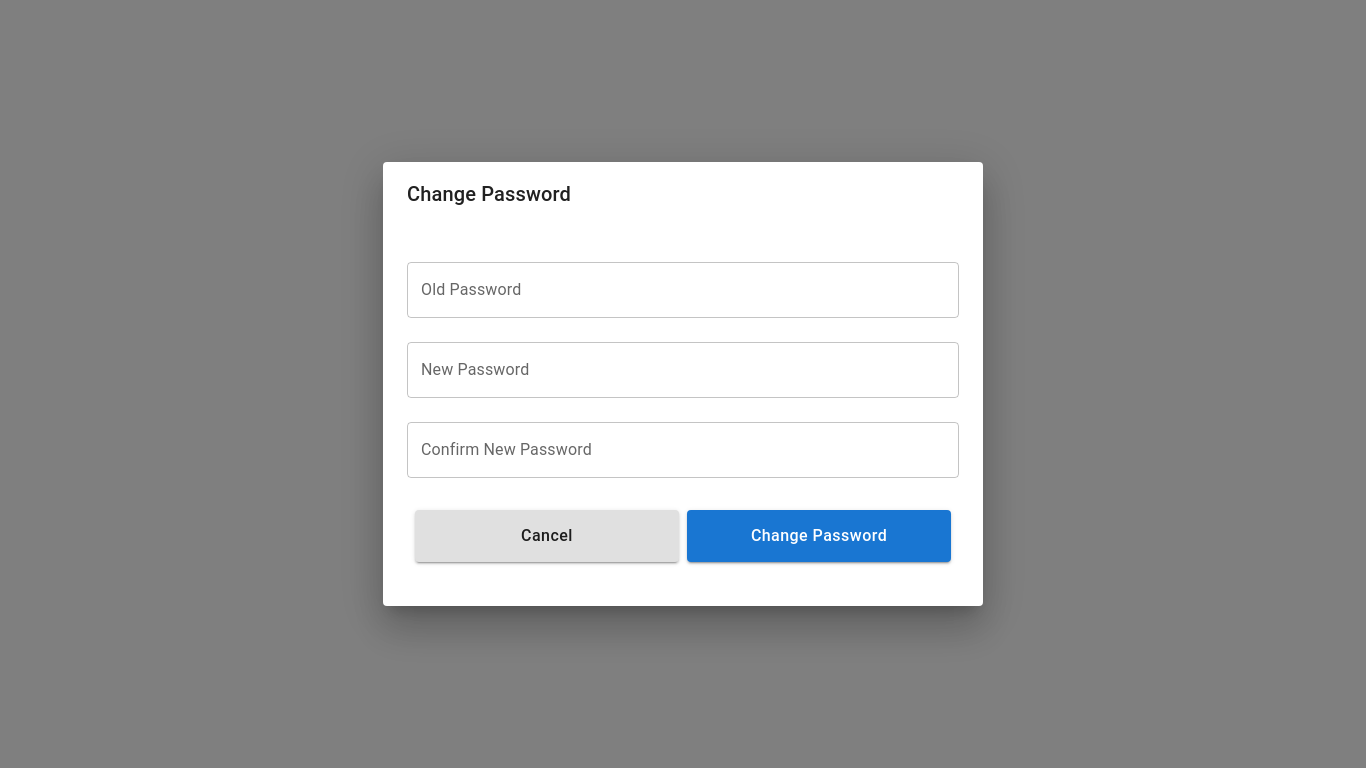
Test case: ChangePasswordModal › shows generic error message when API error has no specific message
// Submit the form
What coordinates should you click on to do the following:
click the button "Change Password"
I would click on:
 (819, 536)
Its box is [687,510,951,562].
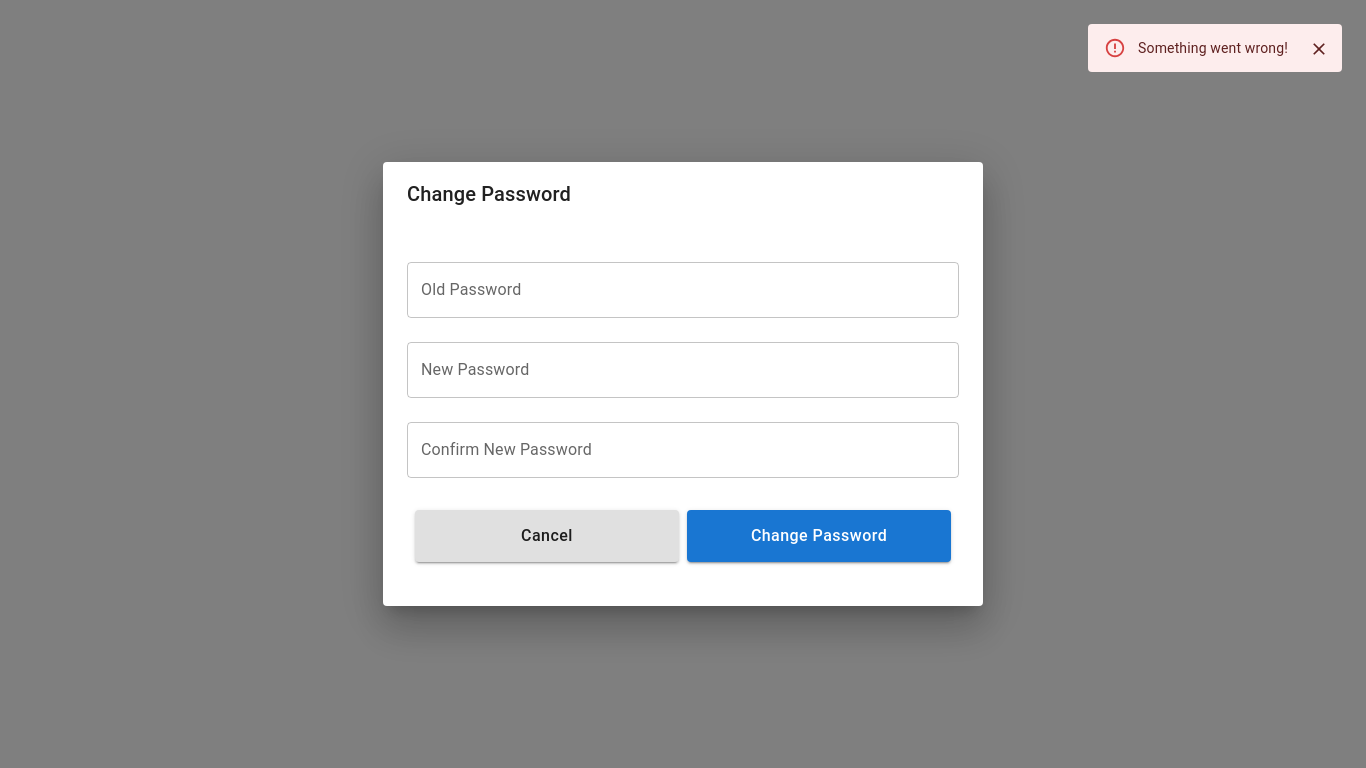
expect the text "Something went wrong!" is shown: met, box [1138,40,1288,56]
